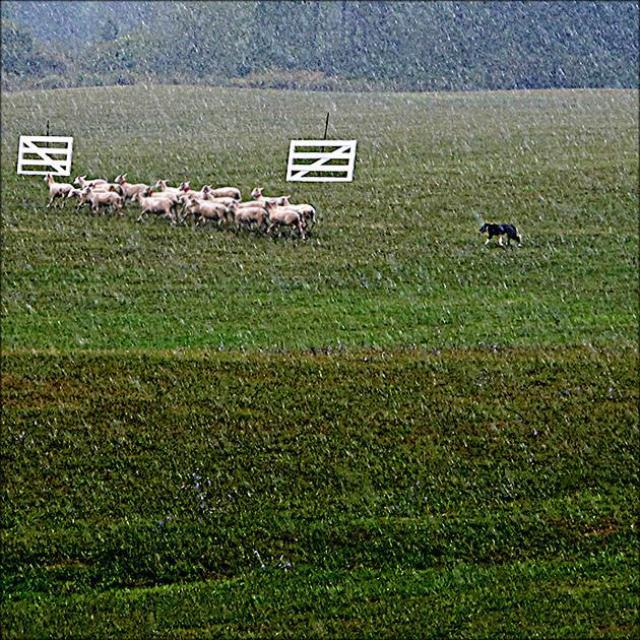Sheep: (69, 172, 303, 232), (262, 201, 306, 240), (191, 198, 229, 232), (283, 197, 317, 231)
